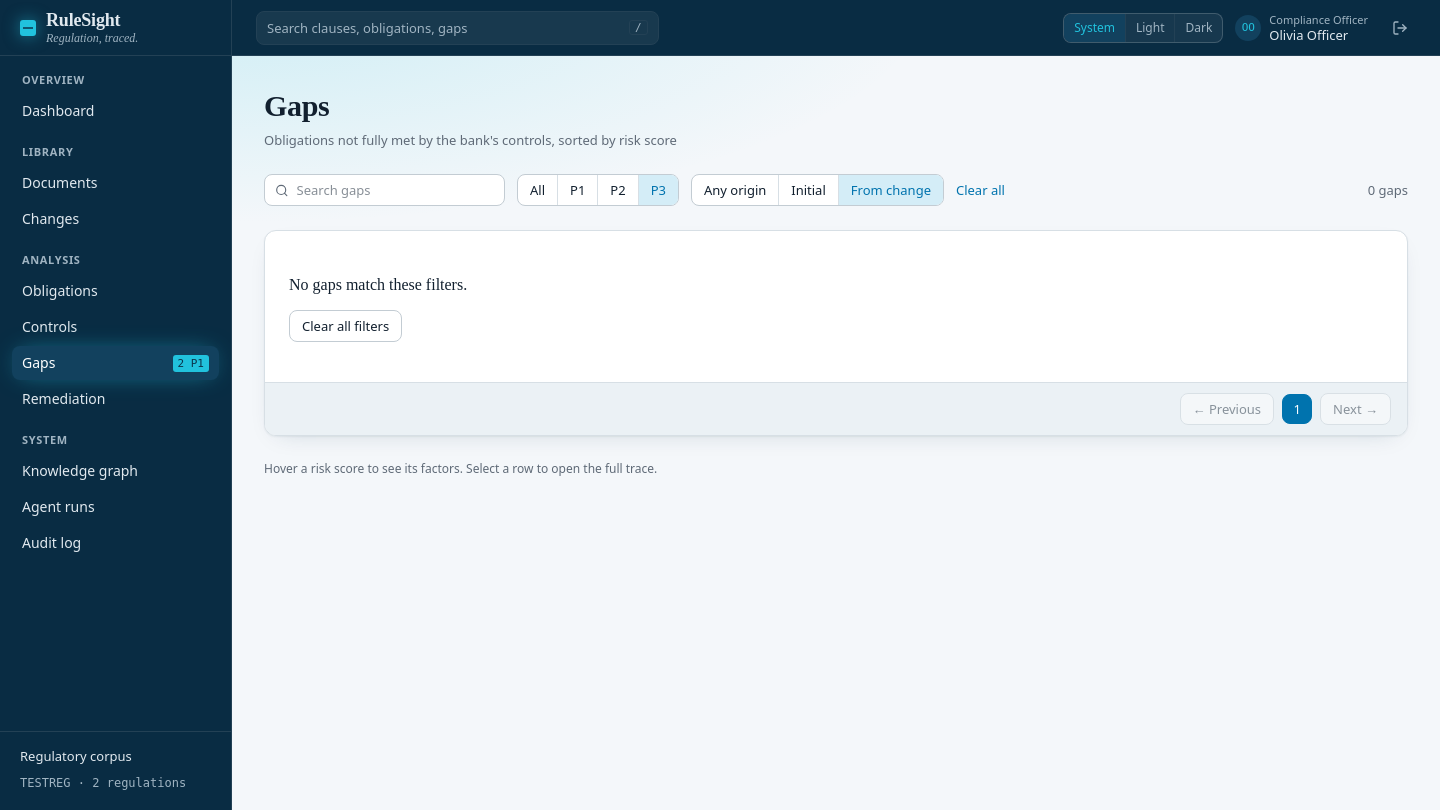
it: Gaps register › shows an empty state with a way back when filters match nothing
The image size is (1440, 810).
Check: the text "No gaps match these filters." is shown, box [289,271,467,298]
Click the button "Clear all filters" at coordinates (346, 326), box [289,310,402,342]
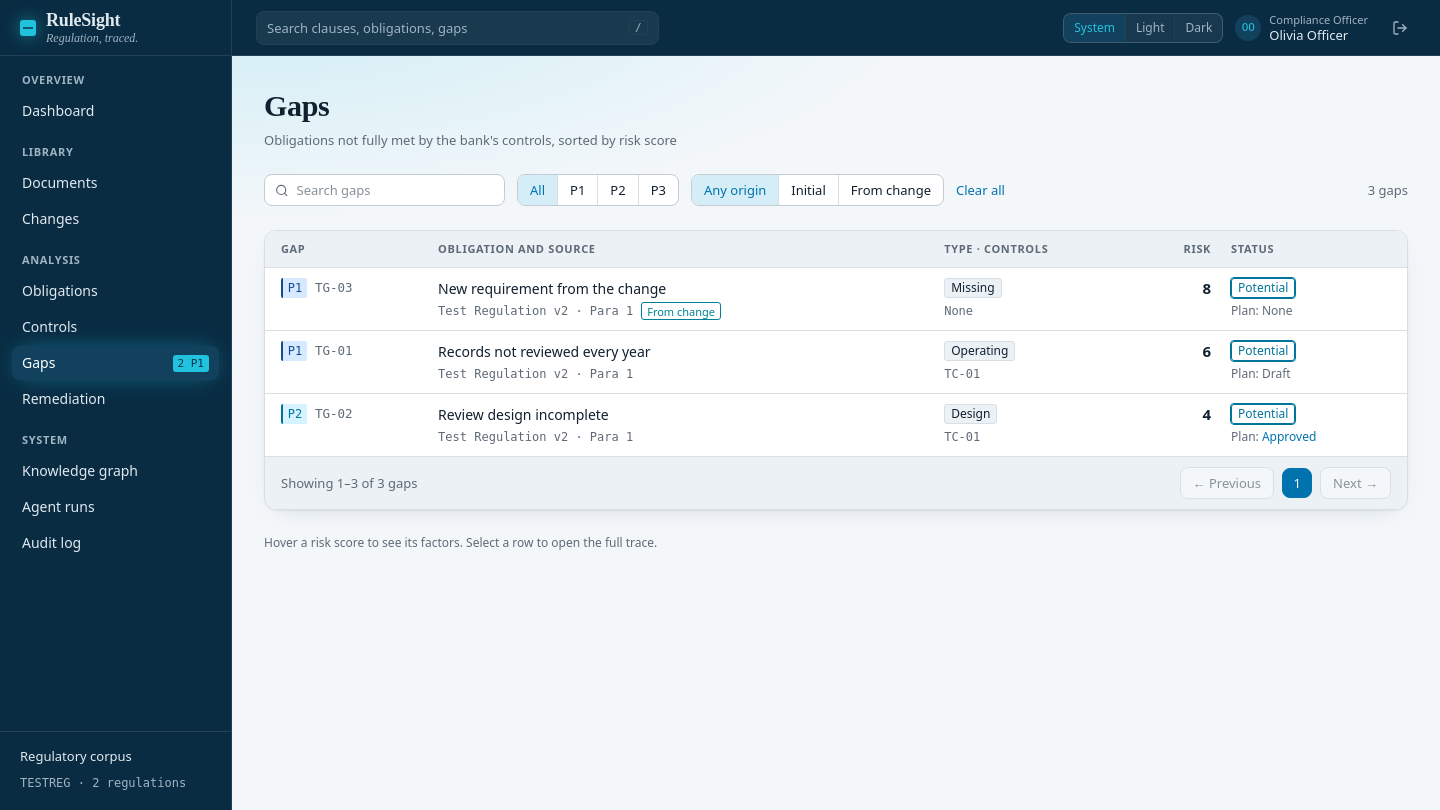
Check: the text "3 gaps" is shown, box [1368,181,1408,199]
